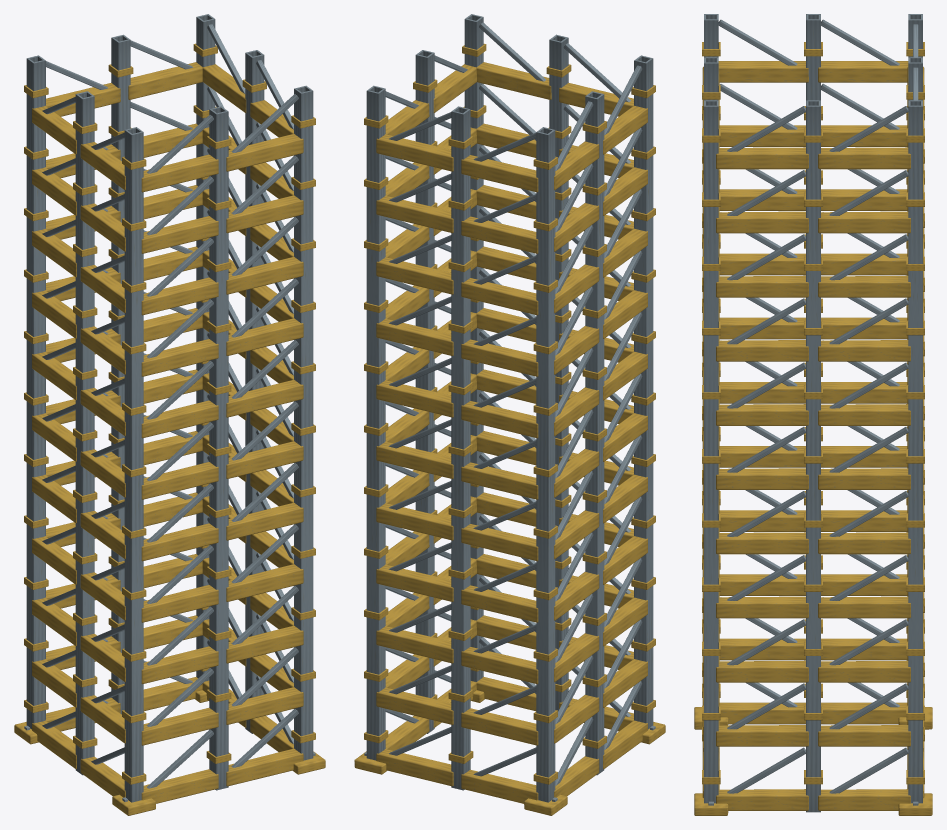
The picture shows the model from 3 angles, left to right: view 1: azimuth 30°, elevation 25°; view 2: azimuth 150°, elevation 25°; view 3: azimuth 270°, elevation 25°; orthographic projection. The views are drawn at different scales.
Parts seen in each view (by area): view 1: Tier 0 side 0 post 0, Tier 0 side 1 post 0, Tier 0 side 0 post 1, Tier 0 side 3 post 0, Tier 0 side 3 post 1, Tier 0 side 1 post 1, Tier 0 side 2 post 1, Tier 0 side 2 post 0, Tier 0 bay 0-6-0 service deck, Tier 0 bay 0-4-0 service deck, Tier 0 bay 0-2-0 service deck, Tier 0 bay 0-2-1 service deck (+97 smaller); view 2: Tier 0 side 3 post 0, Tier 0 side 2 post 0, Tier 0 side 2 post 1, Tier 0 side 0 post 0, Tier 0 side 3 post 1, Tier 0 side 1 post 1, Tier 0 side 0 post 1, Tier 0 side 1 post 0, Tier 0 bay 2-4-0 service deck, Tier 0 bay 2-5-1 service deck, Tier 0 bay 2-6-1 service deck, Tier 0 bay 2-6-0 service deck (+66 smaller); view 3: Tier 0 side 1 post 0, Tier 0 side 2 post 0, Tier 0 side 1 post 1, Tier 0 bay 1-10-1 service deck, Tier 0 bay 1-10-0 service deck, Tier 0 bay 1-4-1 service deck, Tier 0 bay 1-4-0 service deck, Tier 0 bay 1-9-0 service deck, Tier 0 bay 1-9-1 service deck, Tier 0 bay 1-3-0 service deck, Tier 0 bay 1-3-1 service deck, Tier 0 bay 1-2-1 service deck (+66 smaller).
Boxes of the visible parts, bbox=[...] form: Tier 0 side 0 post 0: bbox=[124, 127, 143, 802]; Tier 0 side 1 post 0: bbox=[294, 85, 313, 760]; Tier 0 side 0 post 1: bbox=[209, 106, 228, 790]; Tier 0 side 3 post 0: bbox=[26, 55, 45, 729]; Tier 0 side 3 post 1: bbox=[75, 91, 94, 775]; Tier 0 side 1 post 1: bbox=[245, 50, 264, 733]; Tier 0 side 2 post 1: bbox=[111, 34, 130, 714]; Tier 0 side 2 post 0: bbox=[196, 14, 215, 681]; Tier 0 bay 0-6-0 service deck: bbox=[141, 400, 218, 438]; Tier 0 bay 0-4-0 service deck: bbox=[141, 523, 218, 561]; Tier 0 bay 0-2-0 service deck: bbox=[141, 646, 218, 684]; Tier 0 bay 0-2-1 service deck: bbox=[226, 625, 303, 663]; Tier 0 side 3 post 0: bbox=[536, 127, 555, 802]; Tier 0 side 2 post 0: bbox=[366, 85, 385, 760]; Tier 0 side 2 post 1: bbox=[451, 106, 470, 790]; Tier 0 side 0 post 0: bbox=[634, 55, 653, 729]; Tier 0 side 3 post 1: bbox=[585, 91, 604, 775]; Tier 0 side 1 post 1: bbox=[415, 50, 434, 733]; Tier 0 side 0 post 1: bbox=[549, 34, 568, 710]; Tier 0 side 1 post 0: bbox=[464, 14, 483, 681]; Tier 0 bay 2-4-0 service deck: bbox=[376, 503, 453, 540]; Tier 0 bay 2-5-1 service deck: bbox=[461, 462, 538, 499]; Tier 0 bay 2-6-1 service deck: bbox=[461, 401, 538, 438]; Tier 0 bay 2-6-0 service deck: bbox=[376, 380, 453, 417]; Tier 0 side 1 post 0: bbox=[704, 100, 718, 803]; Tier 0 side 2 post 0: bbox=[908, 100, 922, 803]; Tier 0 side 1 post 1: bbox=[806, 100, 820, 812]; Tier 0 bay 1-10-1 service deck: bbox=[818, 147, 910, 169]; Tier 0 bay 1-10-0 service deck: bbox=[716, 147, 808, 169]; Tier 0 bay 1-4-1 service deck: bbox=[818, 532, 910, 554]; Tier 0 bay 1-4-0 service deck: bbox=[716, 532, 808, 554]; Tier 0 bay 1-9-0 service deck: bbox=[716, 211, 808, 233]; Tier 0 bay 1-9-1 service deck: bbox=[818, 211, 910, 233]; Tier 0 bay 1-3-0 service deck: bbox=[716, 596, 808, 618]; Tier 0 bay 1-3-1 service deck: bbox=[818, 596, 910, 618]; Tier 0 bay 1-2-1 service deck: bbox=[818, 660, 910, 682].
Bounding box in the file's own units: 1.05 × 3.43 × 1.05.
Materials: 2 (2 with a texture image).
